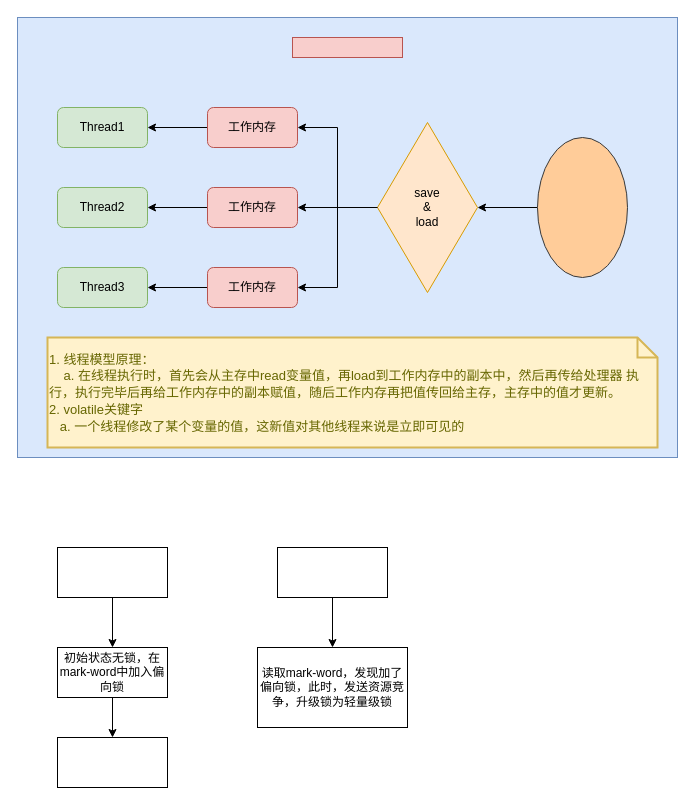
This 695x805 diagram has some shape labels left out. Here are the shapes that lost their labels. From the top down, the box of each, then its label:
(292, 36, 402, 58): JMM多线程模型
(536, 136, 628, 278): 主存
(56, 546, 168, 598): 线程A尝试获取锁
(276, 546, 388, 598): 线程B尝试获取锁
(56, 736, 168, 788): 更新mark-word
